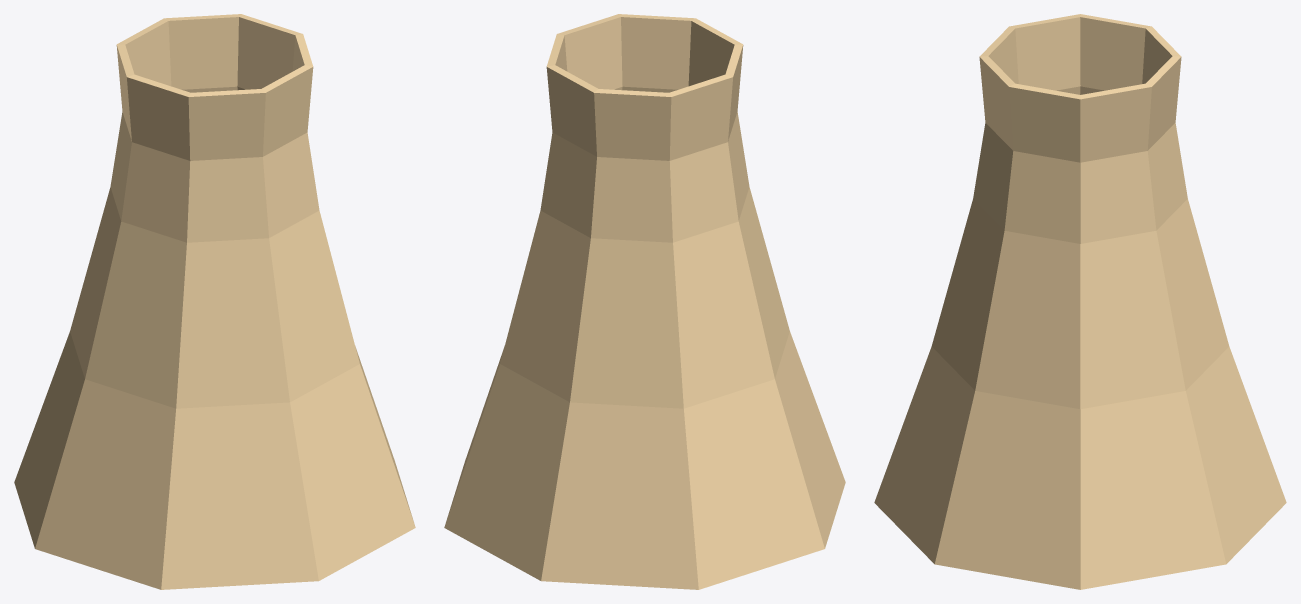
The model's file is Tower_2.fbx.
3 renders of one model, left to right at view 1: azimuth 30°, elevation 25°; view 2: azimuth 150°, elevation 25°; view 3: azimuth 270°, elevation 25°, orthographic.
Visible parts, largest first — view 1: Circle; view 2: Circle; view 3: Circle.
Part boxes in pixels (x1,y1,x2,y2): Circle: [14, 14, 415, 589]; Circle: [444, 14, 845, 589]; Circle: [874, 14, 1286, 589].
Bounding box in the file's own units: 139 × 167 × 139.
